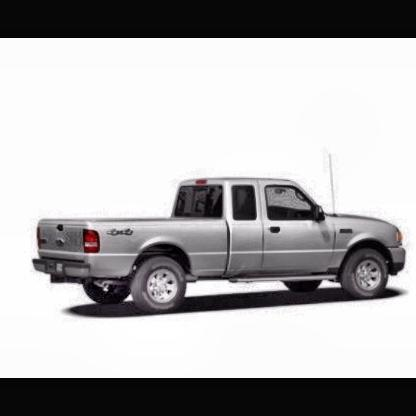Ford Ranger SuperCab 2011: (31, 177, 415, 316)
